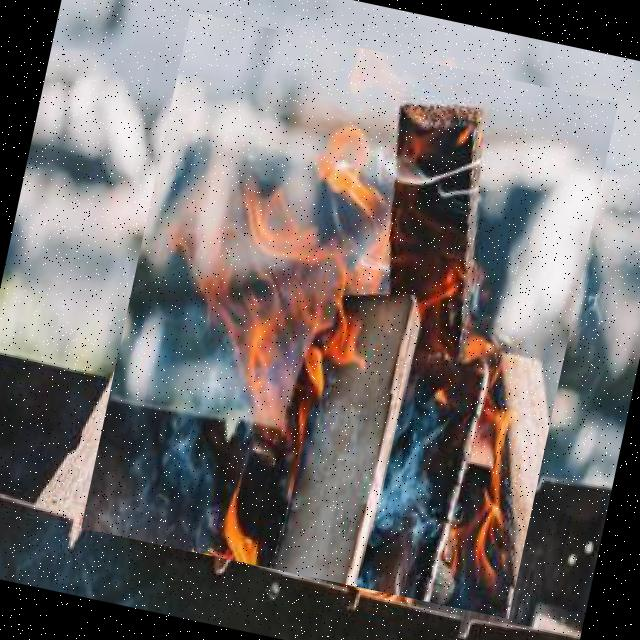fire: (80, 11, 618, 618)
